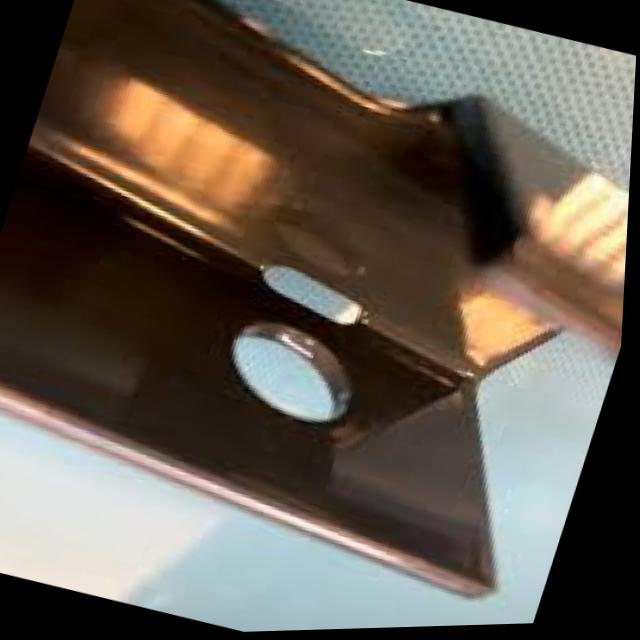holes: (215, 316, 371, 434)
